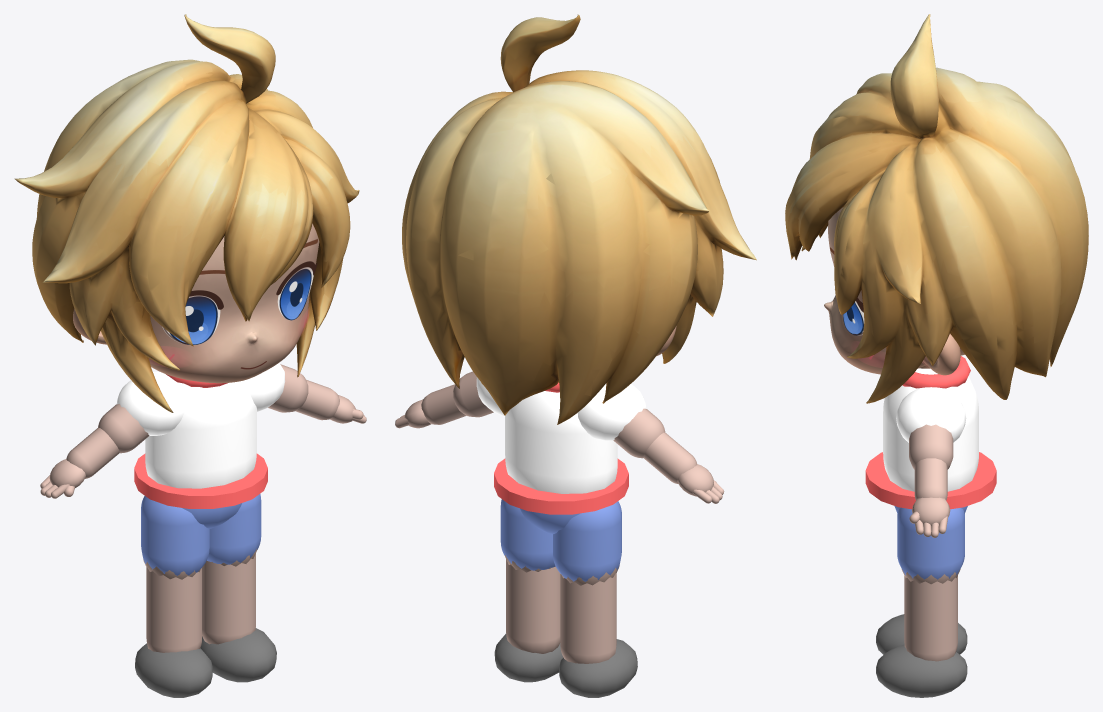
Rendered from blaze.glb.
3 renders of one model, left to right at view 1: azimuth 30°, elevation 25°; view 2: azimuth 150°, elevation 25°; view 3: azimuth 270°, elevation 25°, orthographic. The views are drawn at different scales.
Parts seen in each view (by area): view 1: Head, Legs, Upper, HeadSkin, Face, ArmR, ArmL; view 2: Head, Legs, Upper, ArmR, ArmL; view 3: Head, Legs, Upper, ArmL, HeadSkin, Face, FingersLMesh.
Boxes of the visible parts, bbox=[...] form: Head: bbox=[14, 14, 359, 412]; Legs: bbox=[135, 494, 276, 697]; Upper: bbox=[116, 363, 285, 528]; HeadSkin: bbox=[73, 223, 319, 383]; Face: bbox=[149, 239, 317, 369]; ArmR: bbox=[49, 404, 149, 487]; ArmL: bbox=[268, 364, 355, 423]; Head: bbox=[402, 14, 756, 424]; Legs: bbox=[494, 499, 637, 697]; Upper: bbox=[476, 377, 646, 534]; ArmR: bbox=[613, 408, 713, 496]; ArmL: bbox=[404, 371, 493, 428]; Head: bbox=[785, 14, 1088, 403]; Legs: bbox=[876, 508, 967, 697]; Upper: bbox=[865, 356, 996, 513]; ArmL: bbox=[909, 424, 953, 525]; HeadSkin: bbox=[824, 207, 964, 375]; Face: bbox=[830, 247, 923, 367]; FingersLMesh: bbox=[909, 511, 947, 537].
Bounding box in the file's own units: 1.64 × 3.1 × 1.3.
Materials: 9 (3 with a texture image).
